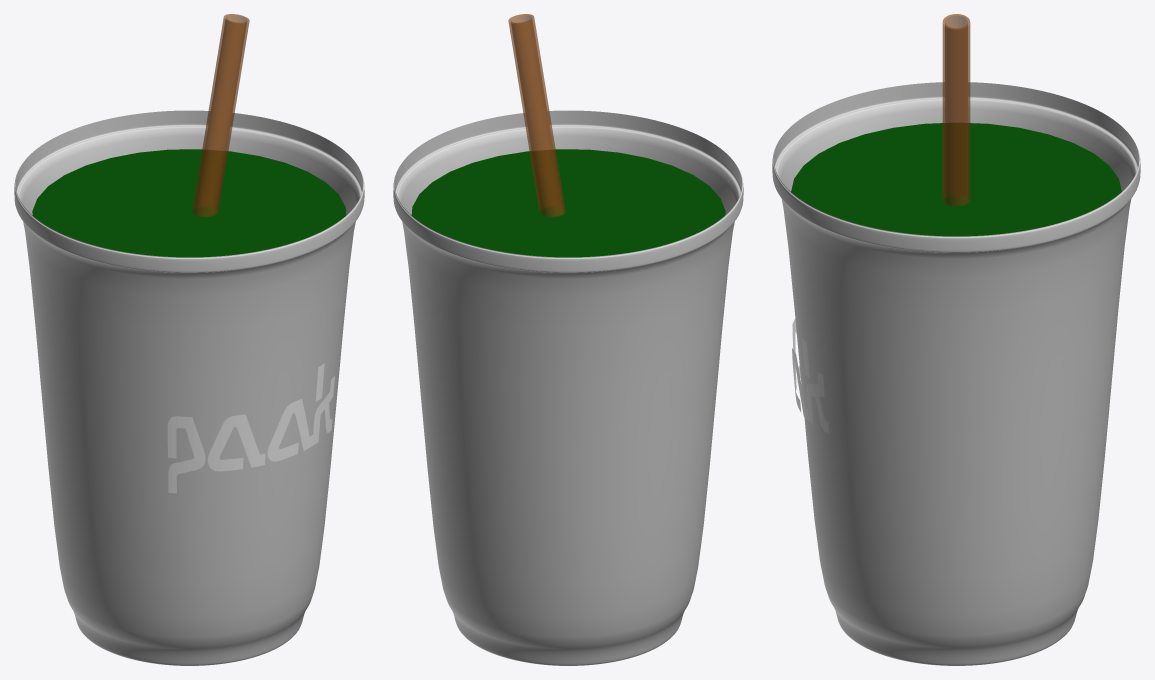
Rendered from paak4.gltf.
3 views of the same model, side by side, from view 1: azimuth 30°, elevation 25°; view 2: azimuth 150°, elevation 25°; view 3: azimuth 270°, elevation 25° (orthographic). The views are drawn at different scales.
Parts seen in each view (by area): view 1: White Paper cup, Cylinder, paakLogoWhite, Cylinder.001; view 2: White Paper cup, Cylinder, Cylinder.001; view 3: White Paper cup, Cylinder, Cylinder.001, paakLogoWhite.
Part boxes in pixels (x1=…): White Paper cup: x1=14, y1=110, x2=364, y2=665; Cylinder: x1=32, y1=149, x2=346, y2=257; paakLogoWhite: x1=167, y1=363, x2=334, y2=493; Cylinder.001: x1=192, y1=14, x2=249, y2=216; White Paper cup: x1=393, y1=110, x2=743, y2=665; Cylinder: x1=411, y1=149, x2=725, y2=257; Cylinder.001: x1=508, y1=14, x2=565, y2=216; White Paper cup: x1=772, y1=82, x2=1140, y2=665; Cylinder: x1=791, y1=123, x2=1121, y2=236; Cylinder.001: x1=942, y1=14, x2=970, y2=206; paakLogoWhite: x1=792, y1=319, x2=829, y2=433.
Size of the model in its own units: 1.34 by 2.49 by 1.34.
4 materials, 1 textured.
